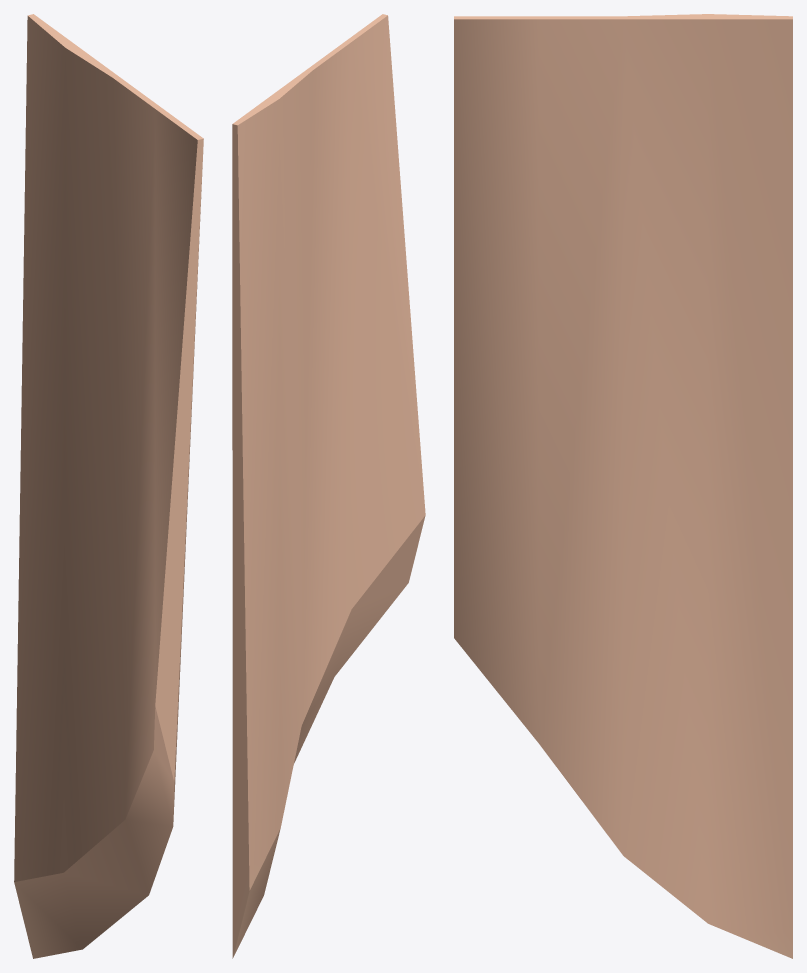
The model's file is Cortun_long1.fbx.
3 renders of one model, left to right at view 1: azimuth 30°, elevation 25°; view 2: azimuth 150°, elevation 25°; view 3: azimuth 270°, elevation 25°, orthographic. The views are drawn at different scales.
Visible parts, largest first — view 1: Cortun_long1; view 2: Cortun_long1; view 3: Cortun_long1.
Boxes of the visible parts, box(x1,y1,x2,y2) form: Cortun_long1: box(14, 14, 203, 958); Cortun_long1: box(232, 14, 425, 958); Cortun_long1: box(454, 14, 792, 958).
Size of the model in its own units: 0.00268 by 0.0306 by 0.01.
Materials: 1 (1 with a texture image).
